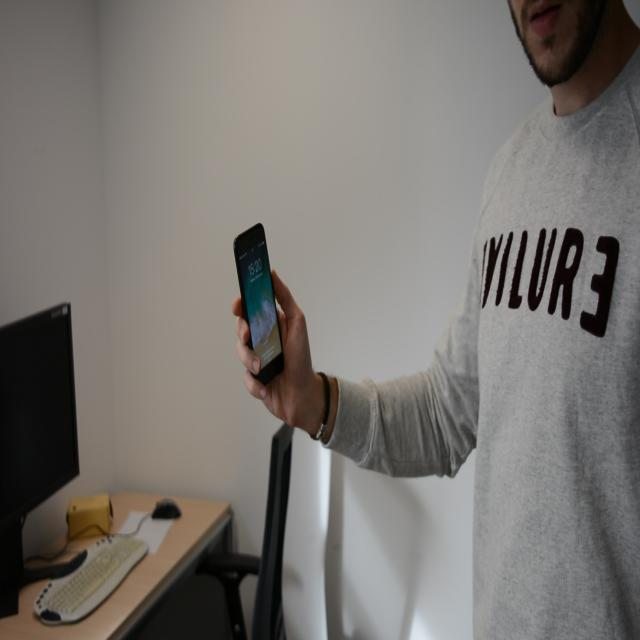phone: (232, 223, 286, 376)
